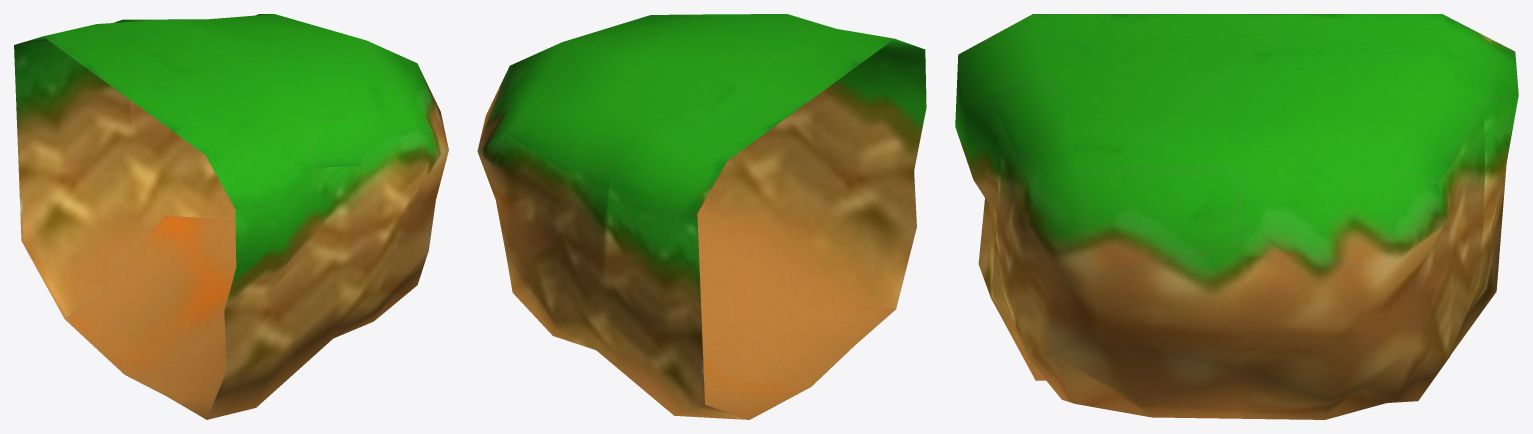
File: EndFlatSeg.FBX
The picture shows the model from 3 angles, left to right: view 1: azimuth 30°, elevation 25°; view 2: azimuth 150°, elevation 25°; view 3: azimuth 270°, elevation 25°; orthographic projection. The views are drawn at different scales.
Visible parts, largest first — view 1: Object011; view 2: Object011; view 3: Object011.
Part boxes in pixels (x1,y1,x2,y2): Object011: (14, 14, 448, 419); Object011: (477, 14, 926, 419); Object011: (955, 14, 1518, 419).
Bounding box in the file's own units: 252 × 219 × 309.
